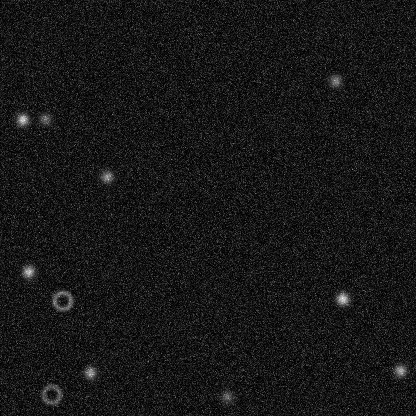Ring: (39, 382, 63, 406), (50, 288, 74, 312)
Spot: (219, 388, 235, 404), (20, 263, 36, 279), (37, 110, 53, 126), (98, 168, 114, 184), (392, 362, 408, 378), (327, 72, 343, 88), (14, 111, 30, 127), (334, 290, 350, 306), (82, 364, 98, 380)
